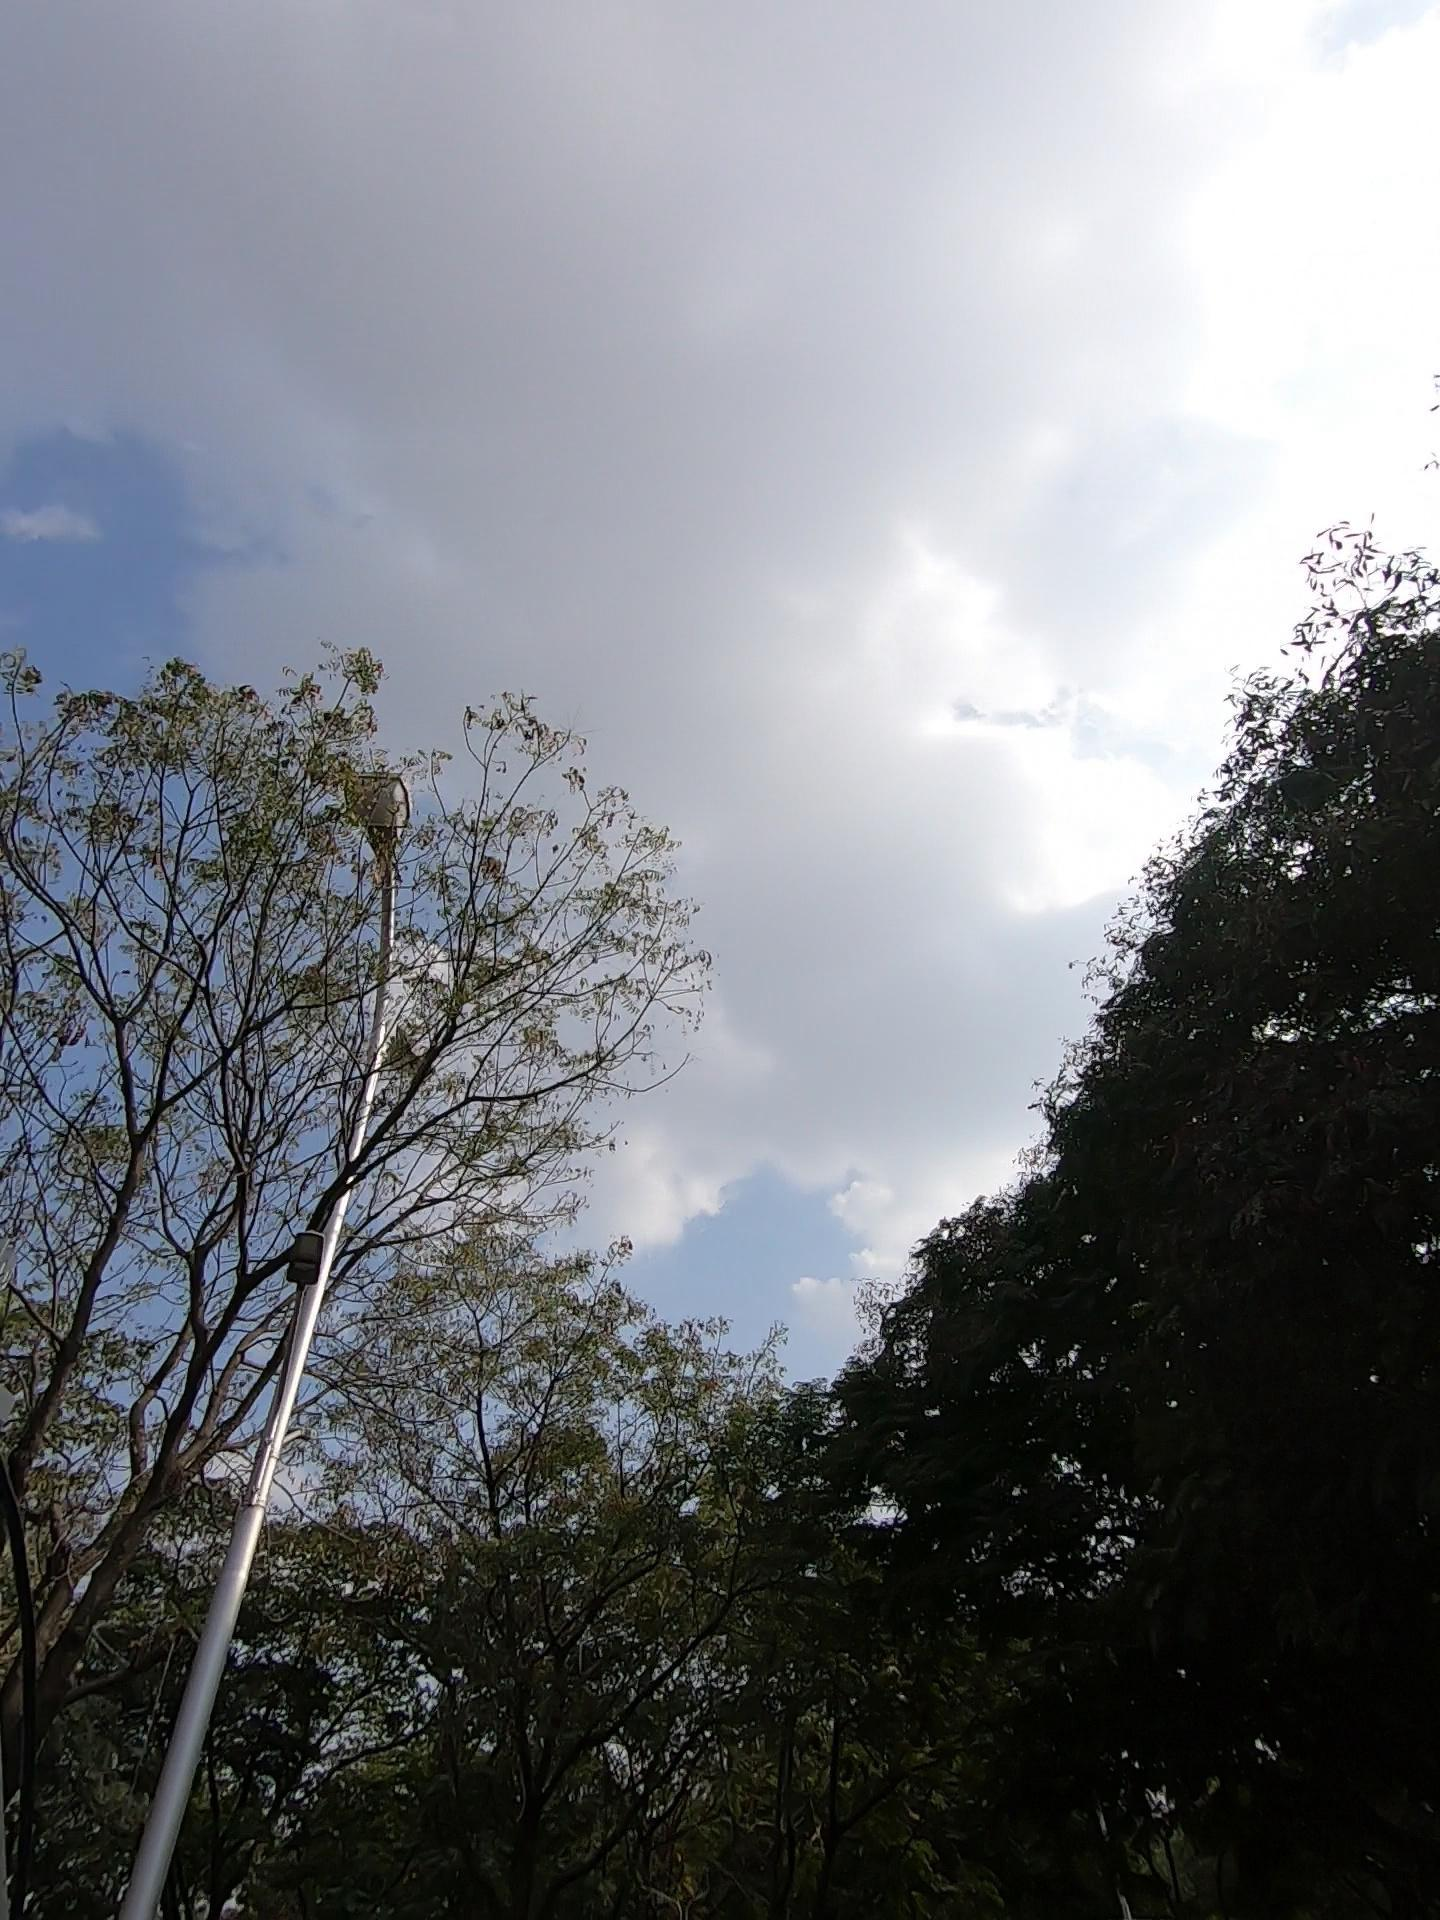off: (280, 726, 516, 1223)
